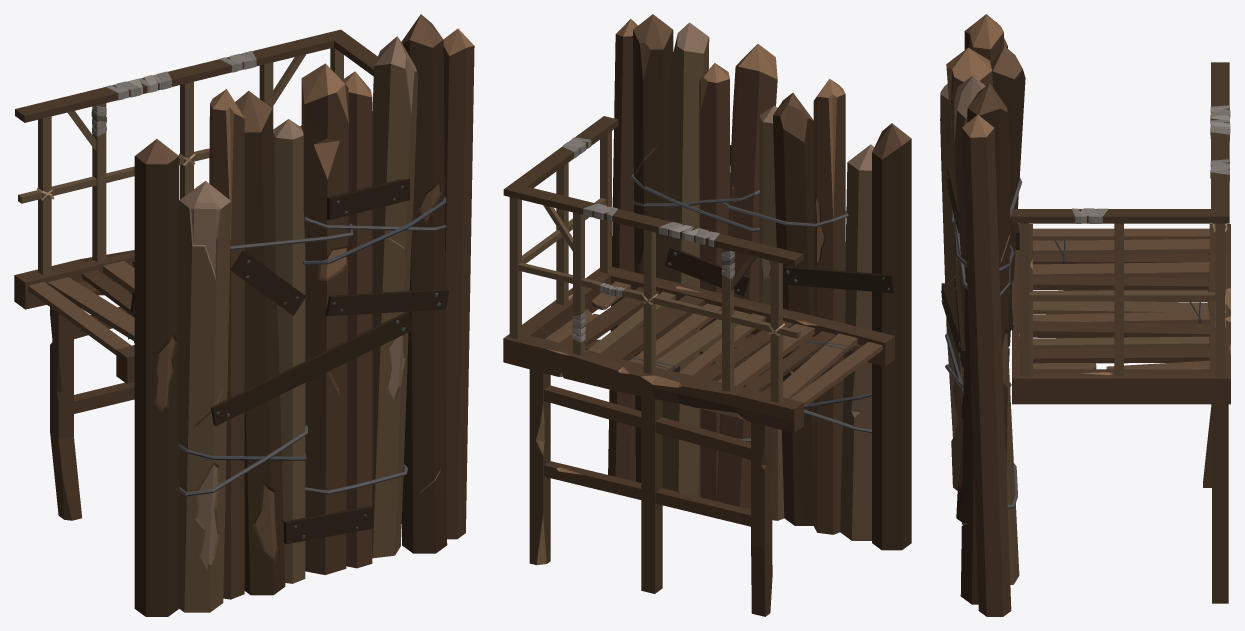
File: SM_Wood_Fence_Bridge_02_A.glb
The picture shows the model from 3 angles, left to right: view 1: azimuth 30°, elevation 25°; view 2: azimuth 150°, elevation 25°; view 3: azimuth 270°, elevation 25°; orthographic projection. The views are drawn at different scales.
Parts seen in each view (by area): view 1: SM_Wood_Fence_Bridge_02_A; view 2: SM_Wood_Fence_Bridge_02_A; view 3: SM_Wood_Fence_Bridge_02_A.
Boxes of the visible parts, bbox=[...] form: SM_Wood_Fence_Bridge_02_A: bbox=[14, 14, 474, 616]; SM_Wood_Fence_Bridge_02_A: bbox=[503, 14, 911, 616]; SM_Wood_Fence_Bridge_02_A: bbox=[940, 14, 1230, 616].
Size of the model in its own units: 2 by 3.1 by 1.59.
1 material, 1 textured.
